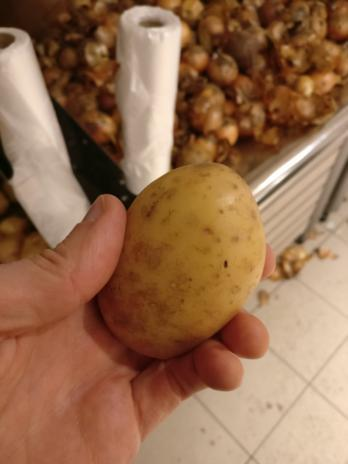Floury potato: (97, 160, 267, 362)
